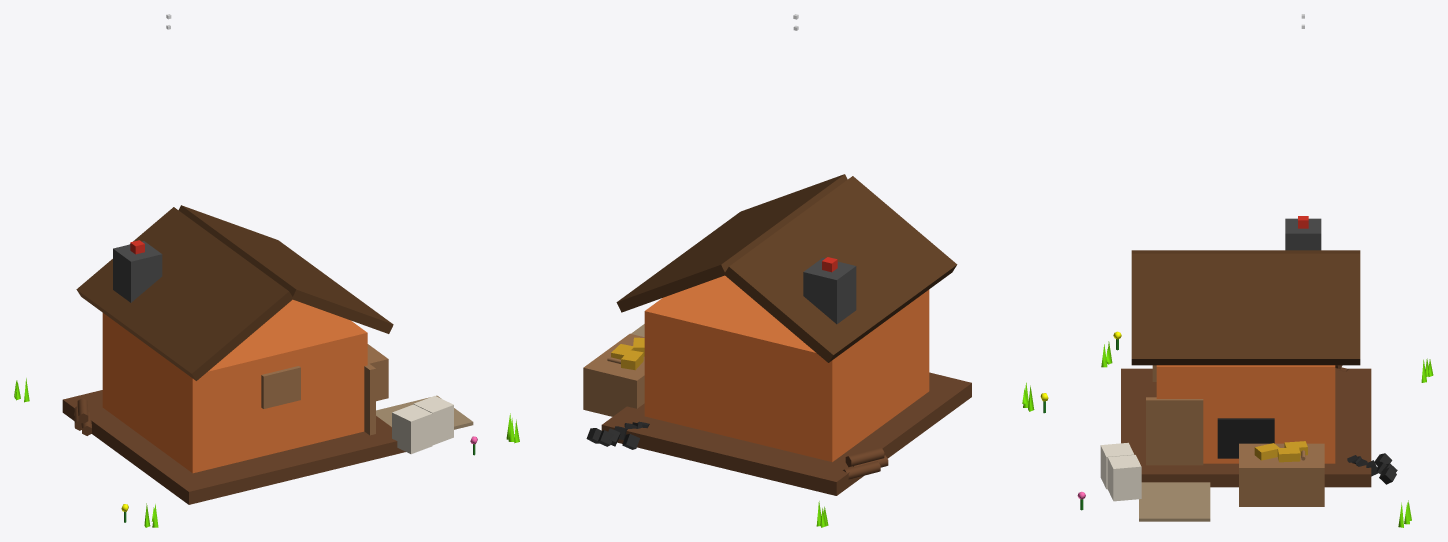
The model's file is bakery.glb.
3 views of the same model, side by side, from view 1: azimuth 30°, elevation 25°; view 2: azimuth 150°, elevation 25°; view 3: azimuth 270°, elevation 25° (orthographic). The views are drawn at different scales.
Visible parts, largest first — view 1: BakeryBody, RoofLeft, Foundation, RoofRight, FlourSack (×2), Chimney, WindowFront, MainDoor, DisplayTable, StonePath; view 2: BakeryBody, RoofLeft, Foundation, RoofRight, DisplayTable, Chimney; view 3: RoofRight, BakeryBody, Foundation, DisplayTable, MainDoor, StonePath, FlourSack (×2), OvenAlcove, Chimney, RoofLeft.
Part boxes in pixels (<box>): BakeryBody: <box>102,299,367,473</box>; RoofLeft: <box>76,207,293,380</box>; Foundation: <box>62,390,405,504</box>; RoofRight: <box>178,205,393,333</box>; FlourSack (×2): <box>392,396,453,454</box>; Chimney: <box>113,241,162,302</box>; WindowFront: <box>261,366,300,408</box>; MainDoor: <box>364,363,375,435</box>; DisplayTable: <box>367,344,388,401</box>; StonePath: <box>376,395,473,429</box>; BakeryBody: <box>644,275,929,461</box>; RoofLeft: <box>725,176,957,362</box>; Foundation: <box>601,372,971,495</box>; RoofRight: <box>616,174,847,312</box>; DisplayTable: <box>583,333,644,416</box>; Chimney: <box>803,258,856,324</box>; RoofRight: <box>1131,253,1360,365</box>; BakeryBody: <box>1156,365,1335,463</box>; Foundation: <box>1121,368,1371,487</box>; DisplayTable: <box>1239,443,1324,506</box>; MainDoor: <box>1146,397,1203,465</box>; StonePath: <box>1139,482,1210,521</box>; FlourSack (×2): <box>1100,442,1141,501</box>; OvenAlcove: <box>1217,418,1274,458</box>; Chimney: <box>1285,218,1321,250</box>; RoofLeft: <box>1131,250,1360,253</box>.
Bounding box in the file's own units: 5.81 × 6.29 × 4.98.
